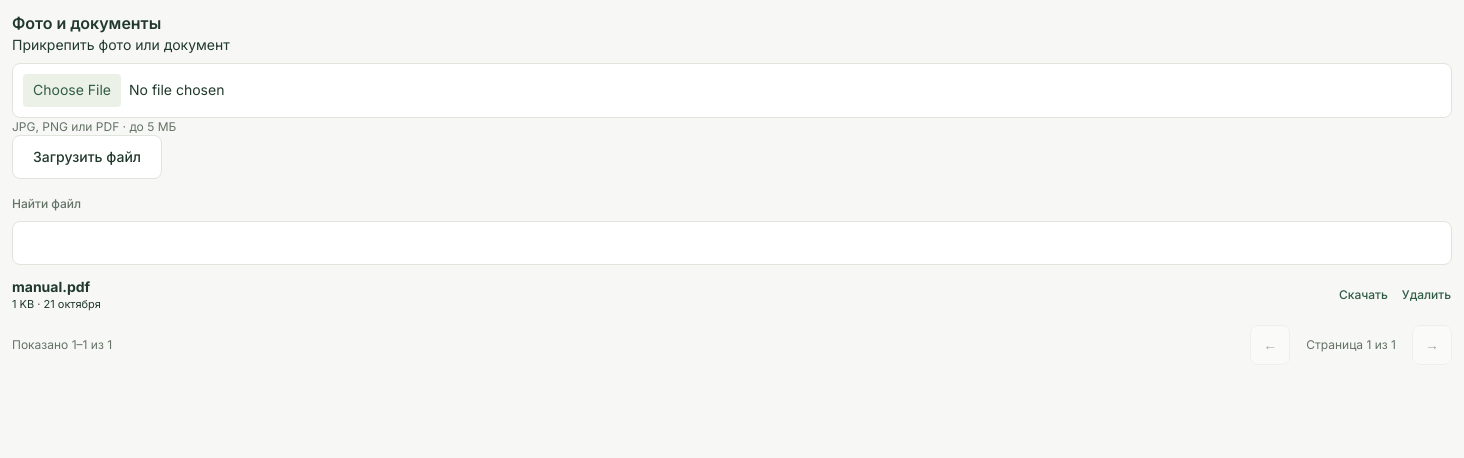
Equipment files › requires confirmation before deletion and gives readers only downloads
Expected: the text "manual.pdf" is shown, [12,278,90,295]
Expected: the button "Скачать" is shown, [1338,277,1389,313]
What coordinates should you click on to do the following:
click the button with aria-label "Удалить: manual.pdf"
I would click on:
 (1426, 295)
Its box is [1401,277,1452,313].
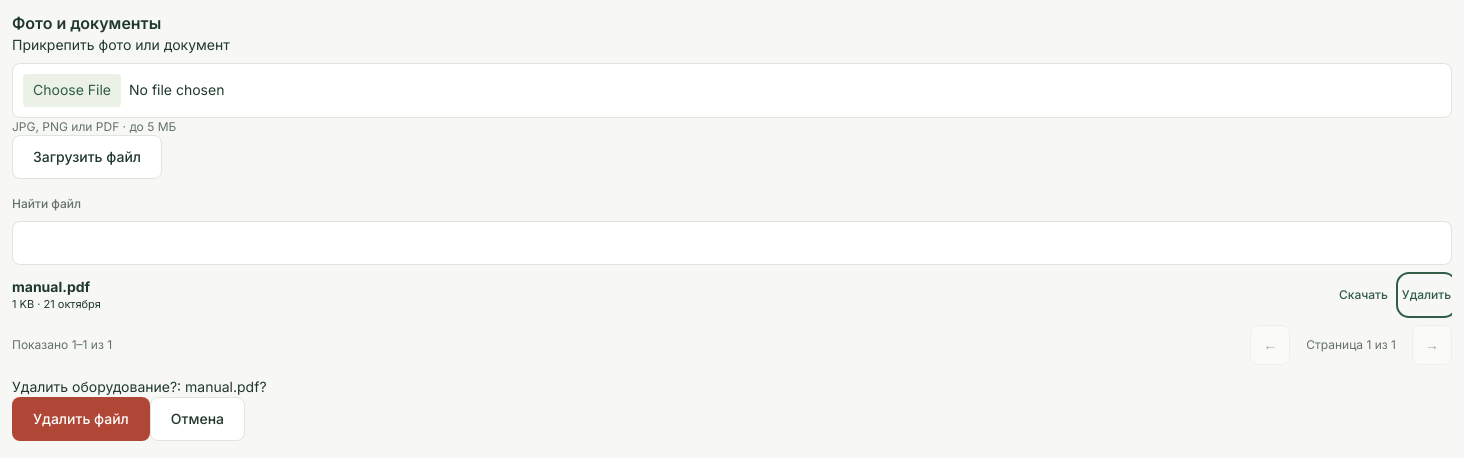
What coordinates should you click on to do the following:
click the button "Удалить файл"
I would click on:
 (81, 419)
Its box is [12,397,150,441].
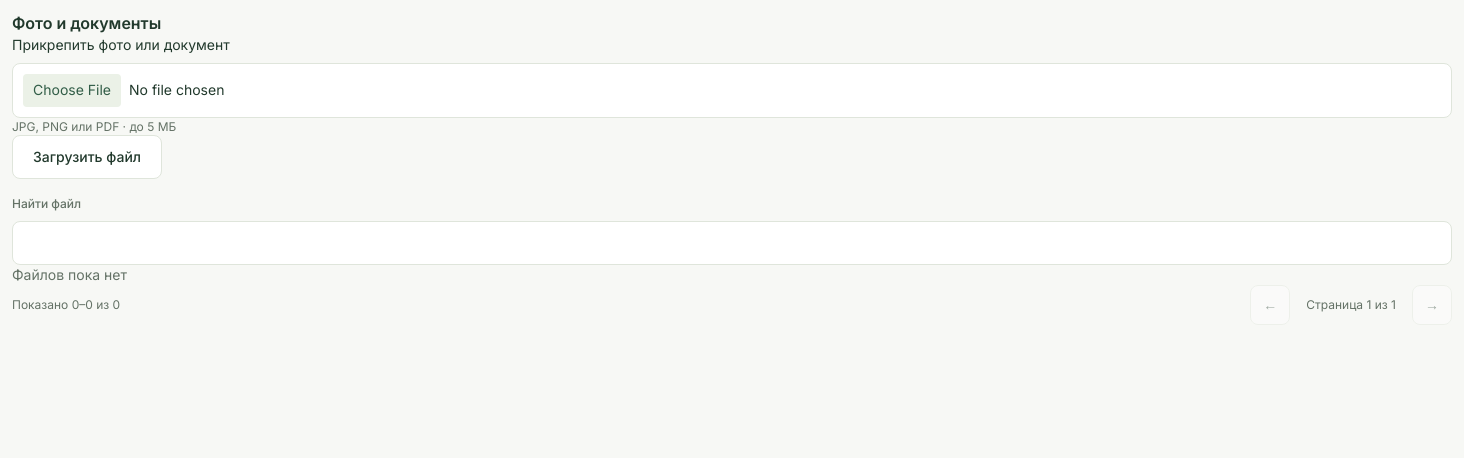
Now the text "Файлов пока нет" is shown, box [12,266,127,283]
